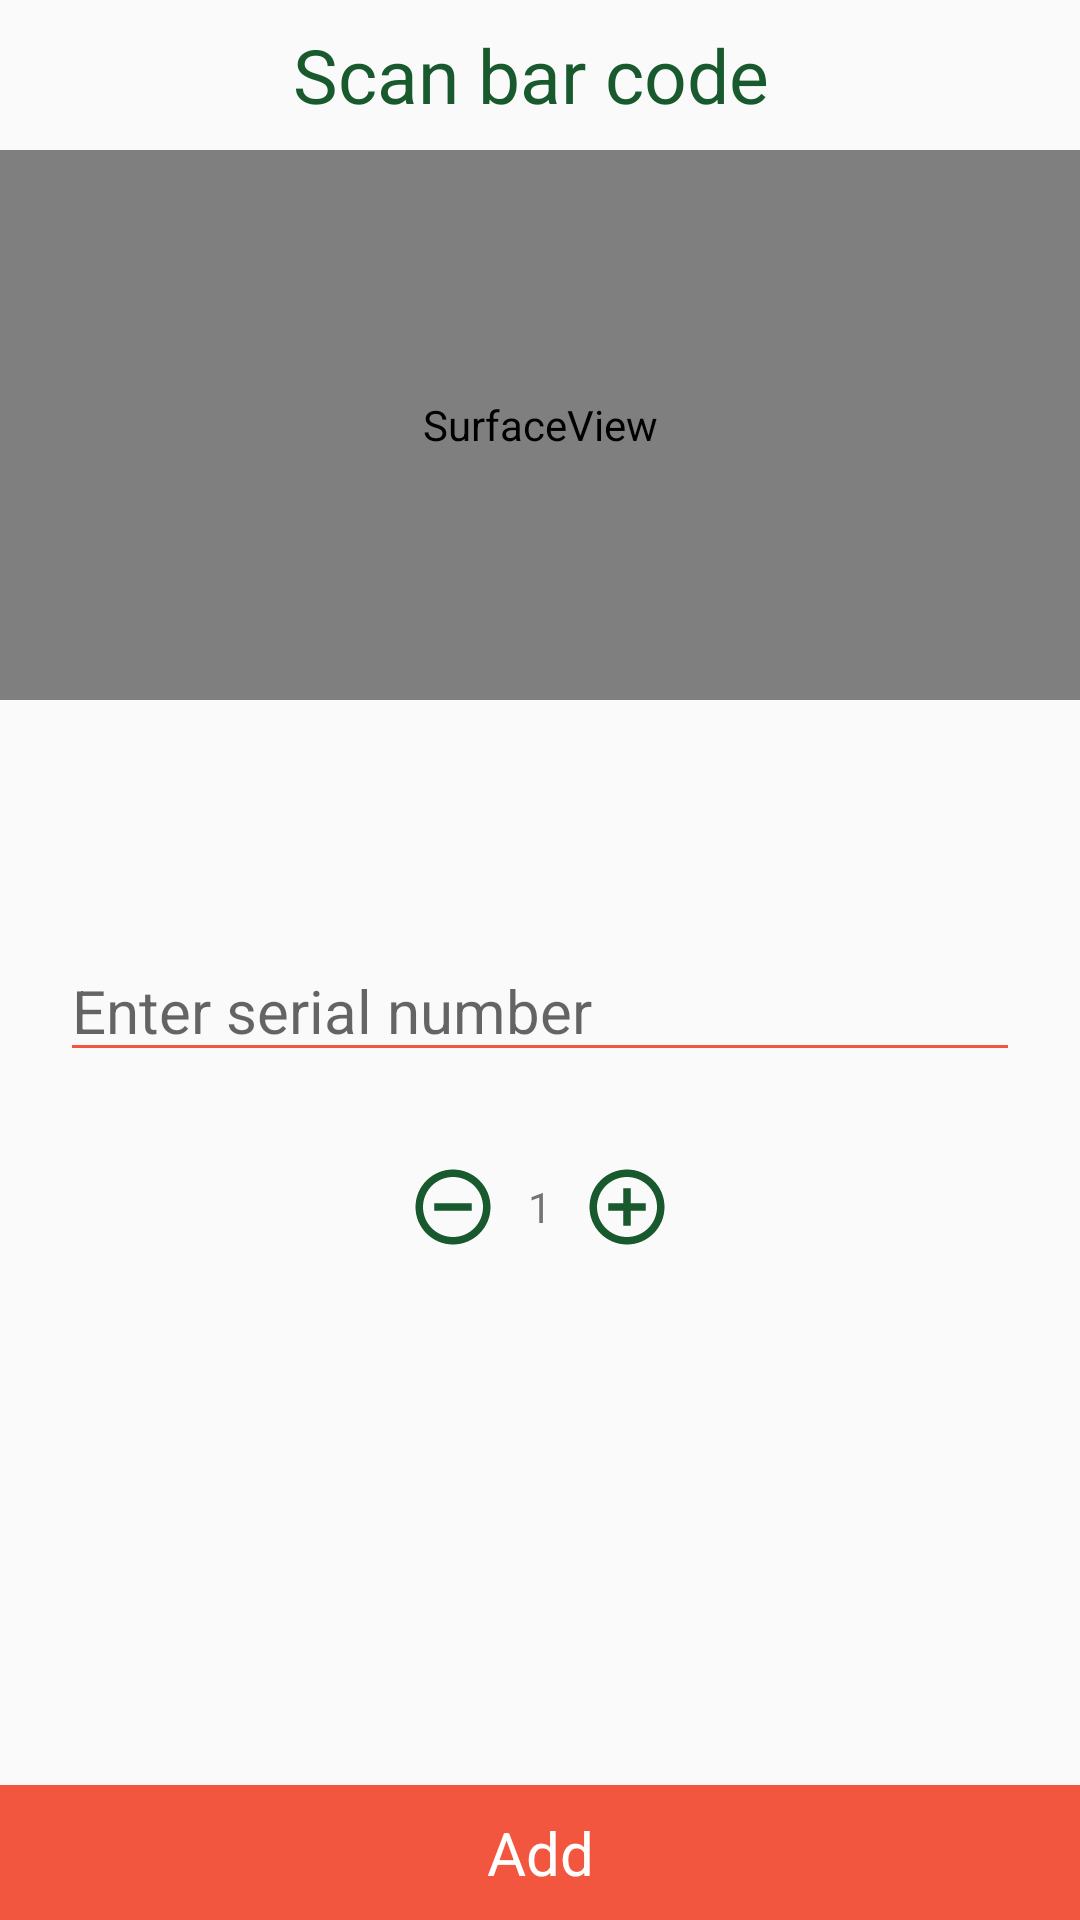

Icons on this 1080×1920 Android screen, each with the point to tap as (x,y):
add circle: (627,1207)
remove circle: (453,1207)
